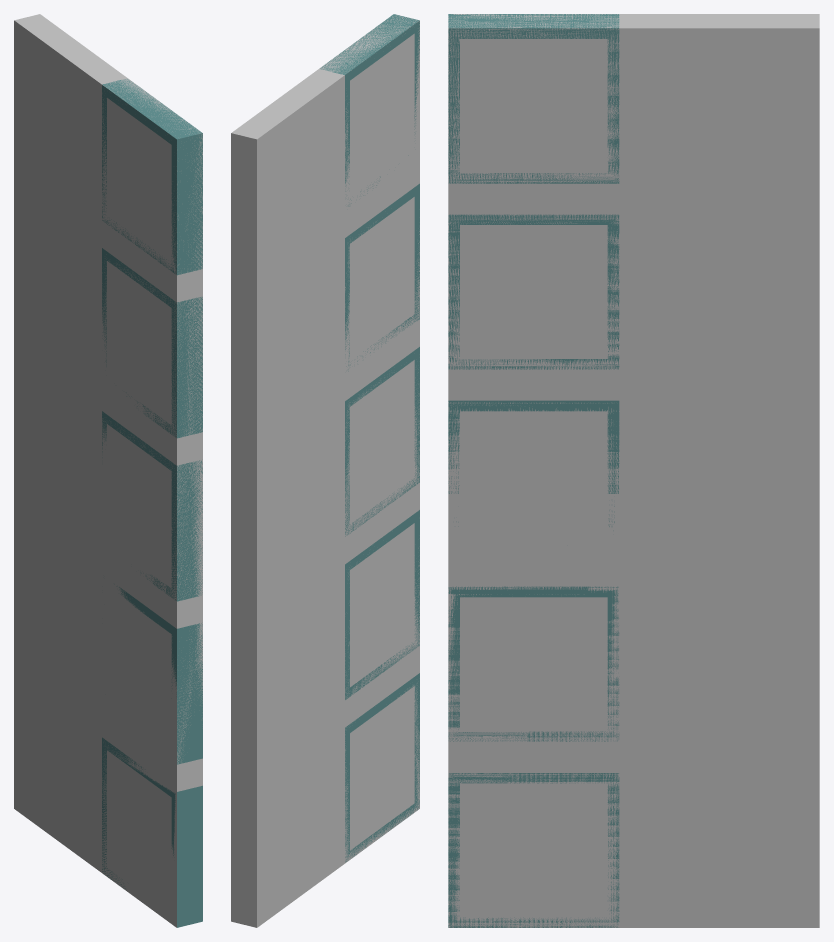
File: SM_Billboard_10.fbx
3 views of the same model, side by side, from view 1: azimuth 30°, elevation 25°; view 2: azimuth 150°, elevation 25°; view 3: azimuth 270°, elevation 25° (orthographic). The views are drawn at different scales.
Visible parts, largest first — view 1: SM_Billboard_10_ConvexHulls, SM_Billboard_10; view 2: SM_Billboard_10_ConvexHulls, SM_Billboard_10; view 3: SM_Billboard_10_ConvexHulls, SM_Billboard_10.
Part boxes in pixels (x1,y1,x2,y2): SM_Billboard_10_ConvexHulls: (14, 14, 202, 927); SM_Billboard_10: (102, 79, 202, 927); SM_Billboard_10_ConvexHulls: (231, 14, 419, 927); SM_Billboard_10: (320, 14, 419, 862); SM_Billboard_10_ConvexHulls: (448, 14, 819, 927); SM_Billboard_10: (448, 14, 619, 927).
Size of the model in its own units: 20 by 217 by 580.
Materials: 2 (1 with a texture image).
